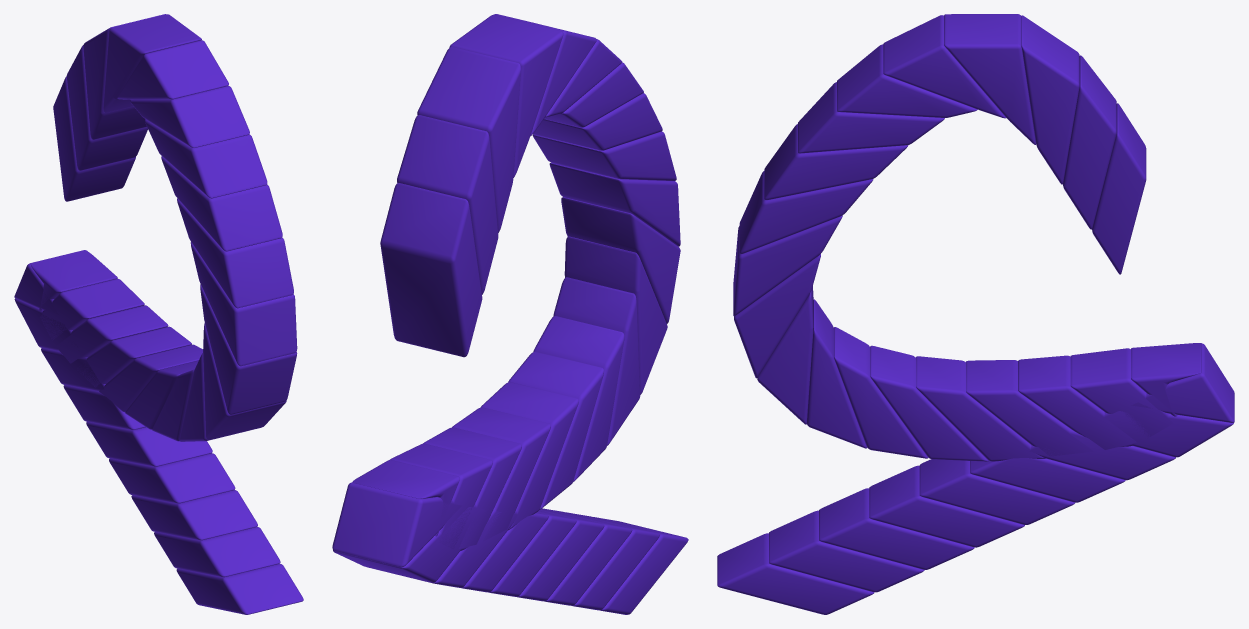
Rendered from hamzah.fbx.
The picture shows the model from 3 angles, left to right: view 1: azimuth 30°, elevation 25°; view 2: azimuth 150°, elevation 25°; view 3: azimuth 270°, elevation 25°; orthographic projection. The views are drawn at different scales.
Visible parts, largest first — view 1: Cube; view 2: Cube; view 3: Cube.
Boxes of the visible parts, box(x1,y1,x2,y2) form: Cube: box(14, 14, 303, 614); Cube: box(332, 14, 688, 614); Cube: box(717, 14, 1234, 614).
Size of the model in its own units: 10 by 80.56 by 66.17.
